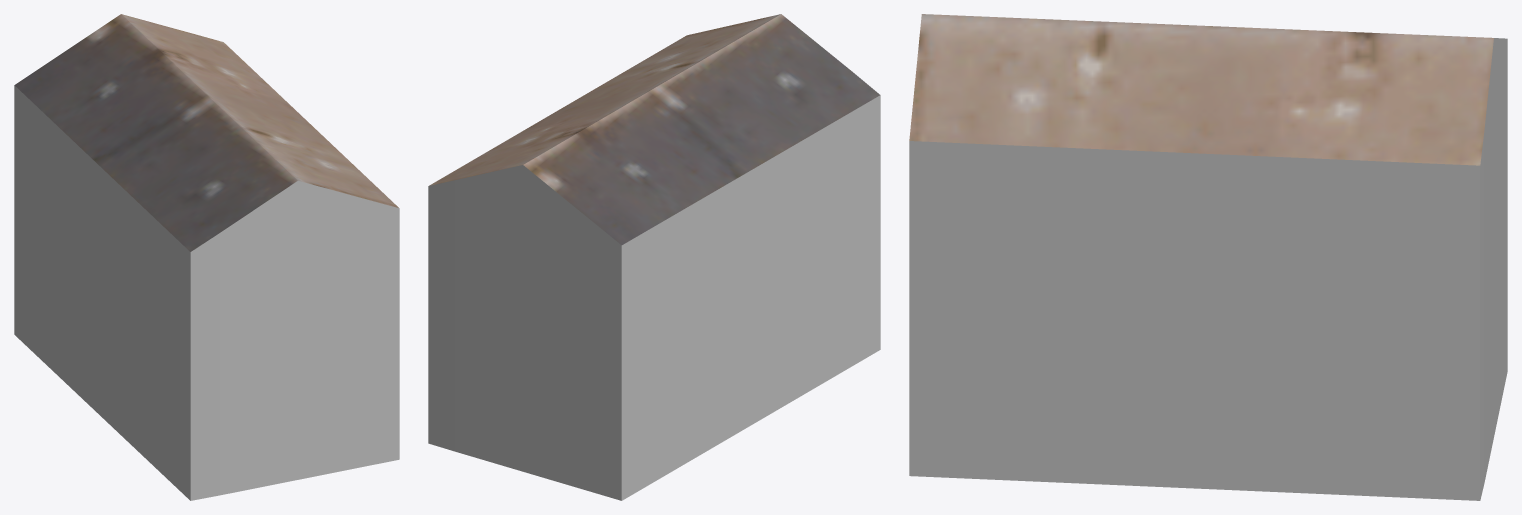
The model's file is DEBW_0010007TxiI.gltf.
3 views of the same model, side by side, from view 1: azimuth 30°, elevation 25°; view 2: azimuth 150°, elevation 25°; view 3: azimuth 270°, elevation 25° (orthographic). The views are drawn at different scales.
Parts seen in each view (by area): view 1: Z_UP; view 2: Z_UP; view 3: Z_UP.
Part boxes in pixels (bbox=[...]): Z_UP: bbox=[14, 14, 399, 500]; Z_UP: bbox=[428, 14, 880, 500]; Z_UP: bbox=[909, 14, 1507, 500].
Size of the model in its own units: 13.09 by 15.79 by 21.43.
Materials: 2 (1 with a texture image).
